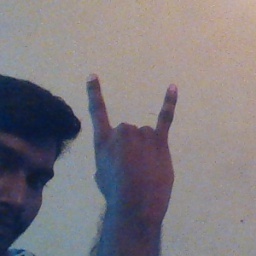V: (79, 69, 189, 206)
